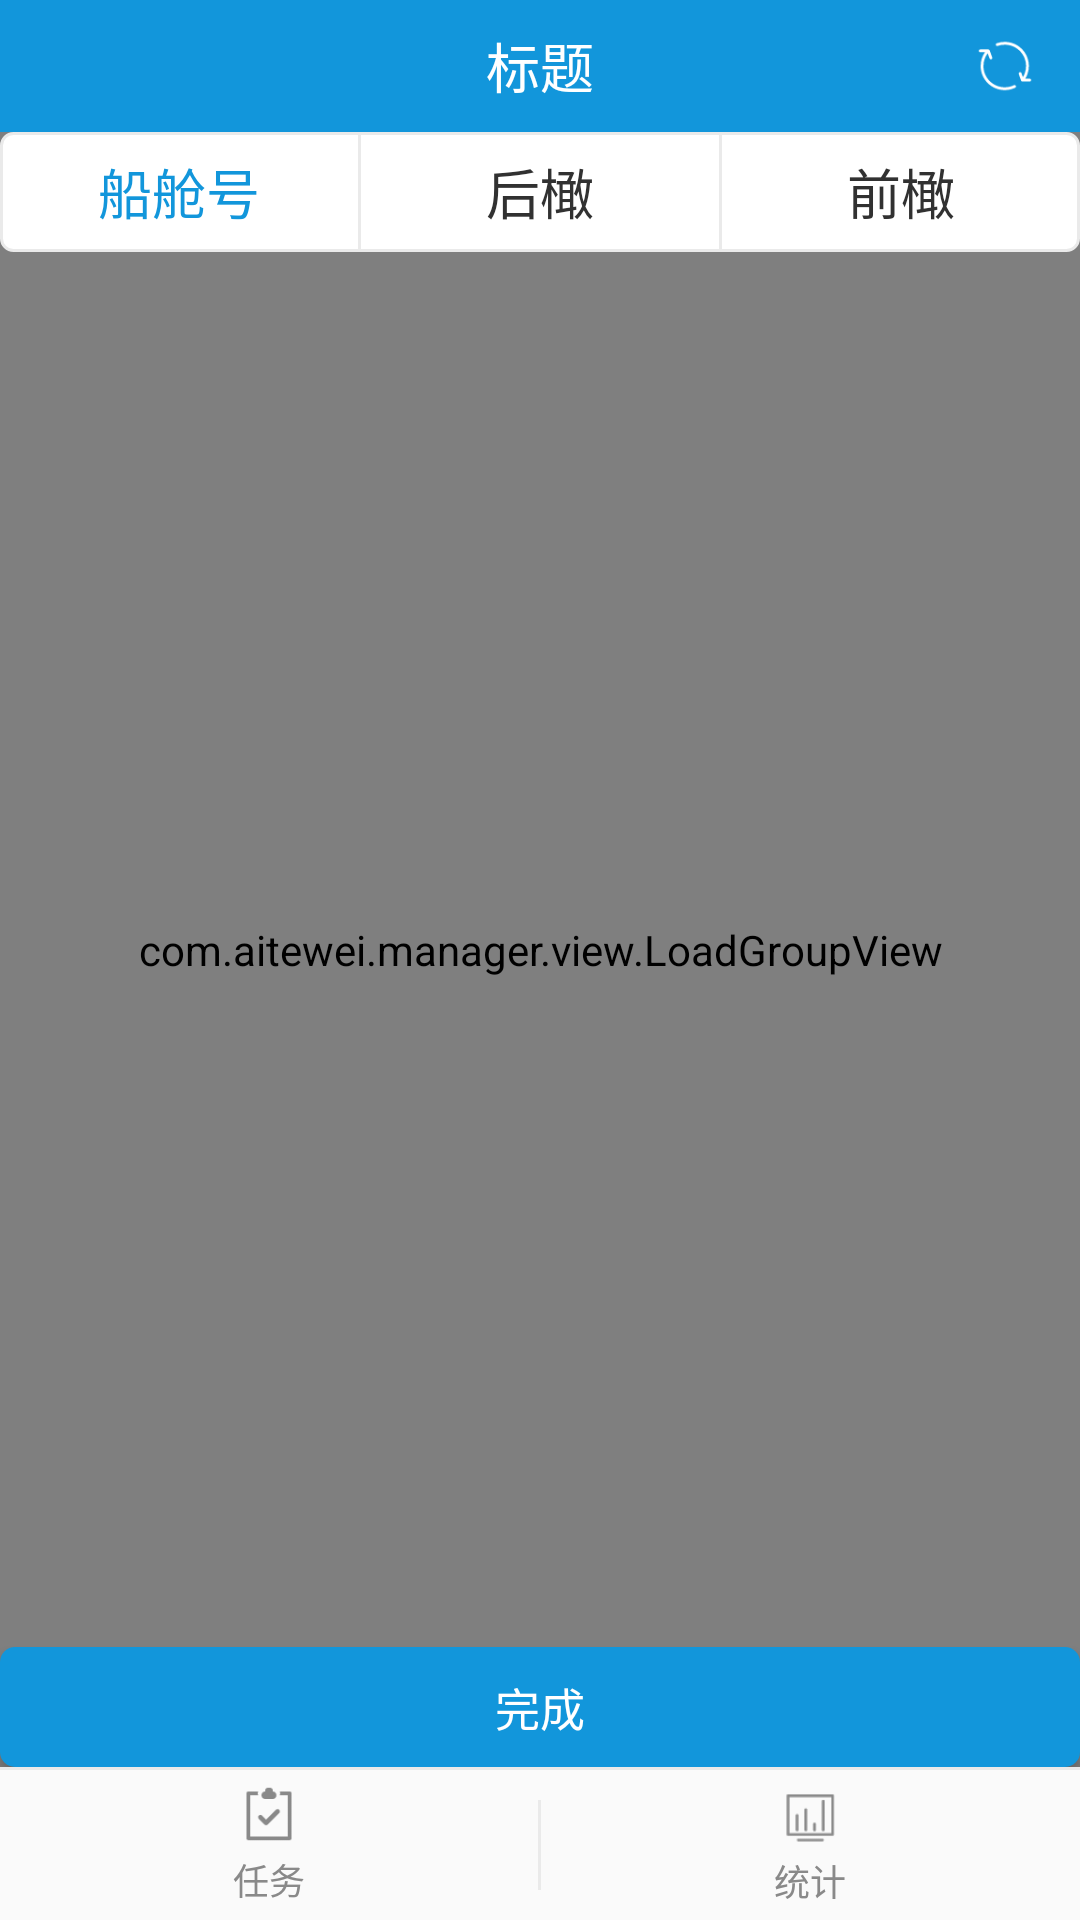

Where to tap for icons on this 1080px x 1920px app screen, as (x,y):
ship detail refresh: (1005,66)
